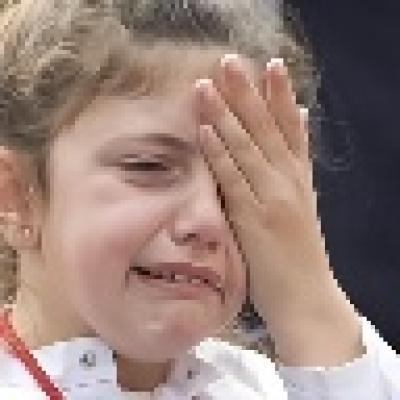sad: (43, 30, 278, 357)
